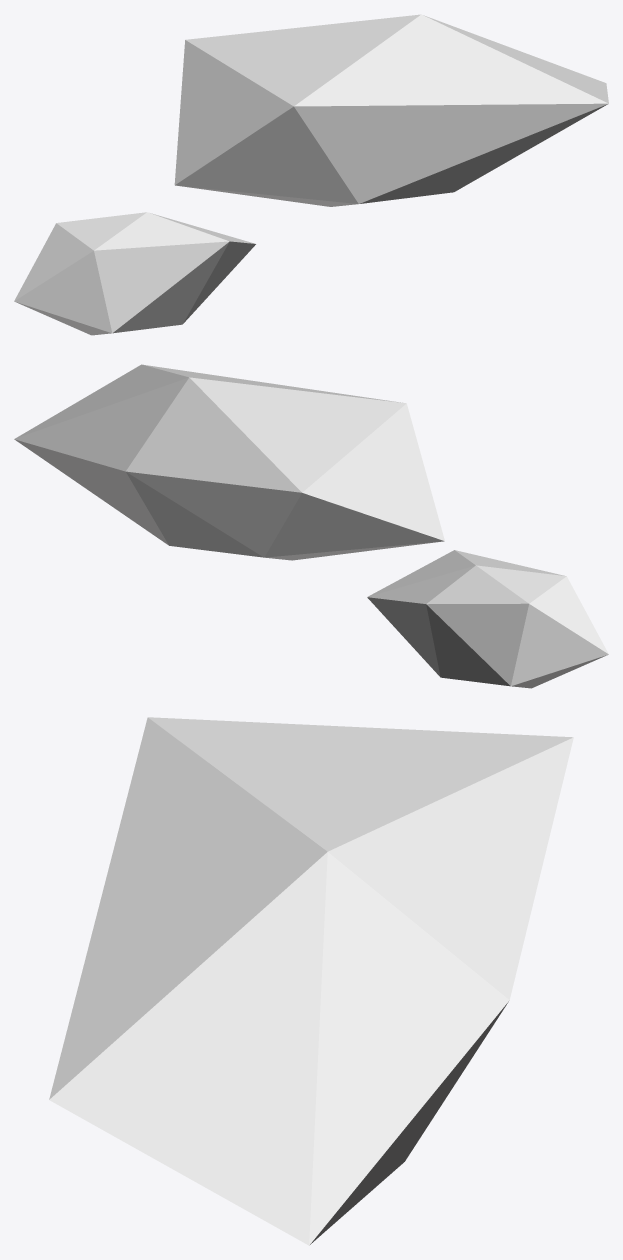
Rendered from Cloud1.fbx.
3 renders of one model, top to bottom at view 1: azimuth 30°, elevation 25°; view 2: azimuth 150°, elevation 25°; view 3: azimuth 270°, elevation 25°, orthographic. The views are drawn at different scales.
Parts seen in each view (by area): view 1: Cloud1; view 2: Cloud1; view 3: Cloud1.
Boxes of the visible parts, bbox=[...] form: Cloud1: bbox=[14, 14, 608, 335]; Cloud1: bbox=[14, 364, 608, 688]; Cloud1: bbox=[49, 717, 573, 1245].
Bounding box in the file's own units: 2.67 × 1.01 × 1.02.
